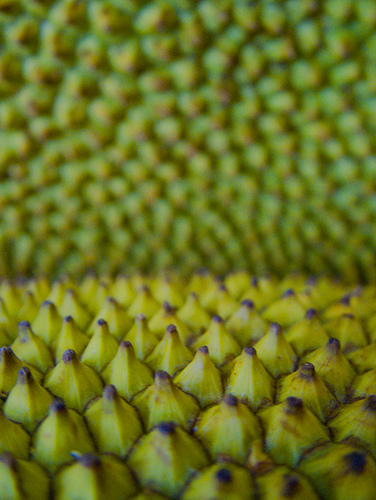jackfruit: (0, 0, 374, 272), (0, 270, 374, 498)
